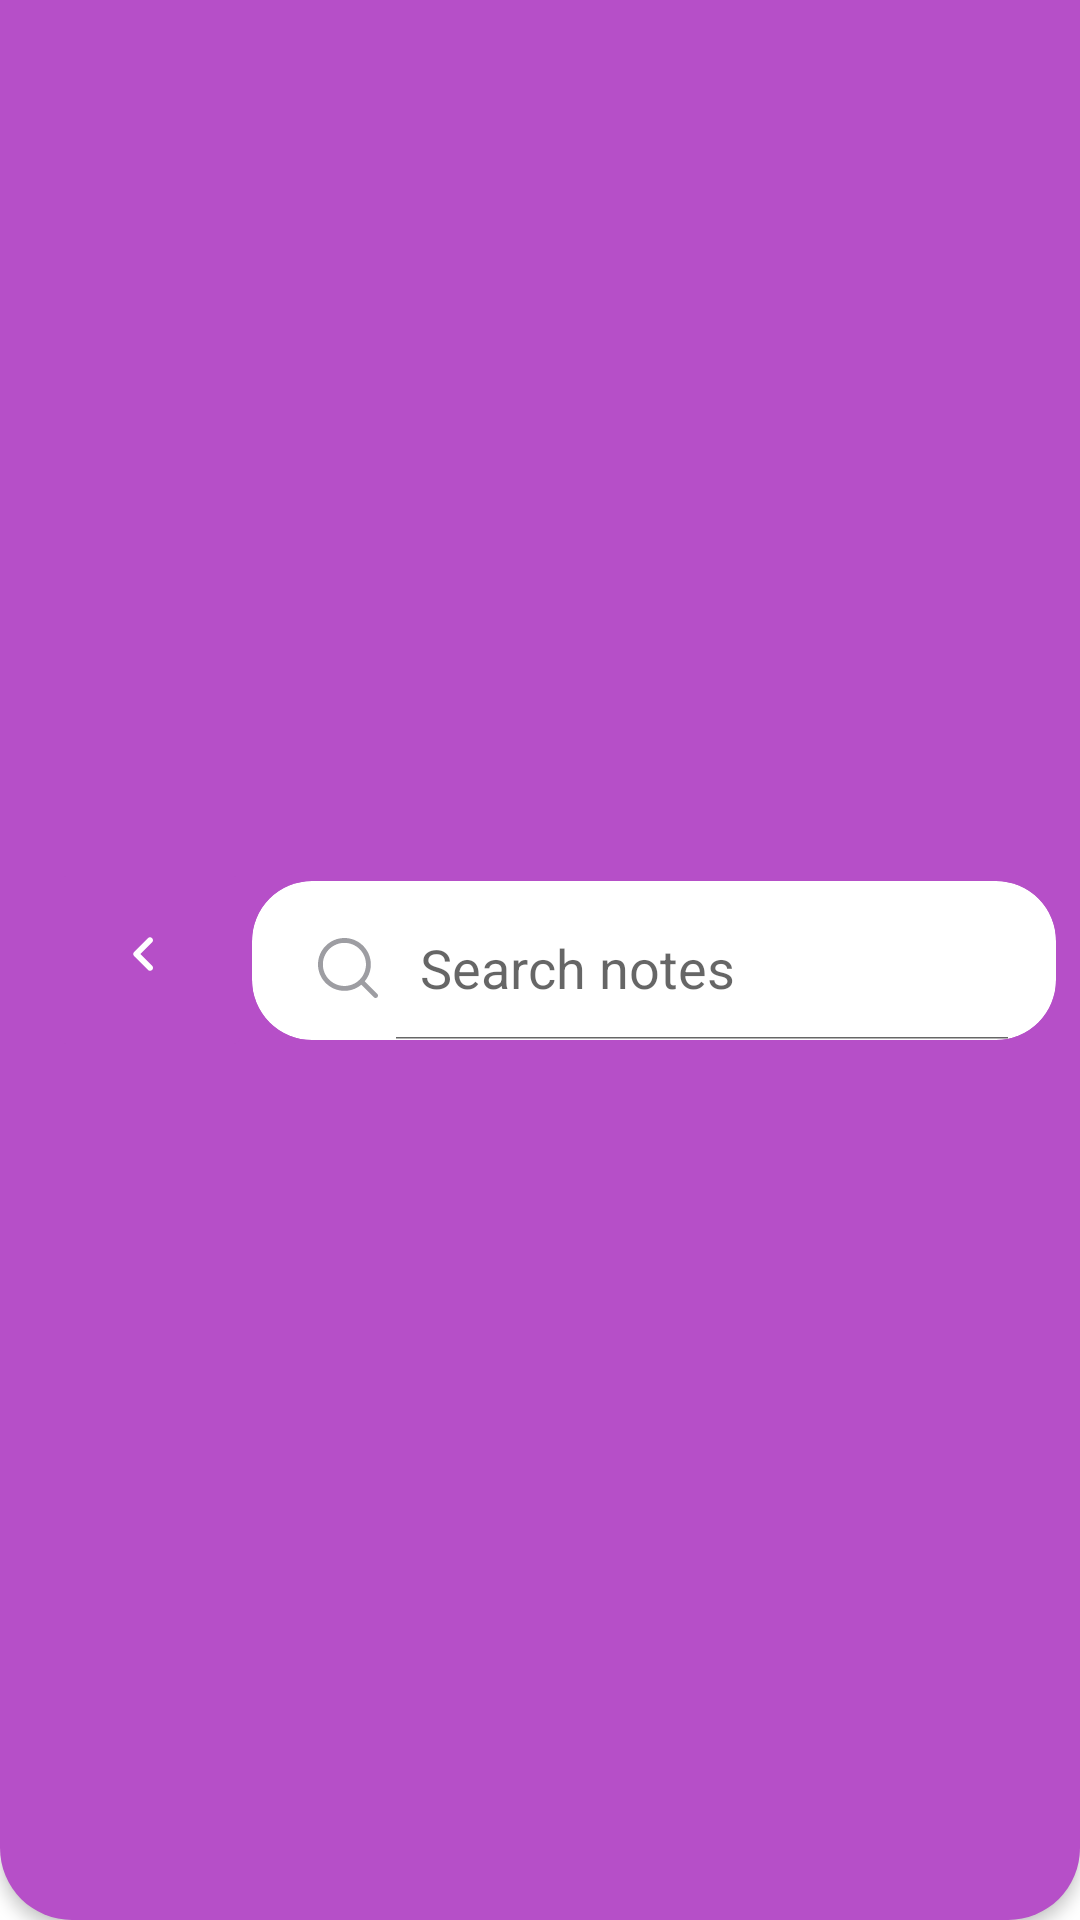

Where to tap for icons on this 1080px x 1920px app screen, as (x,y):
back: (143,954)
